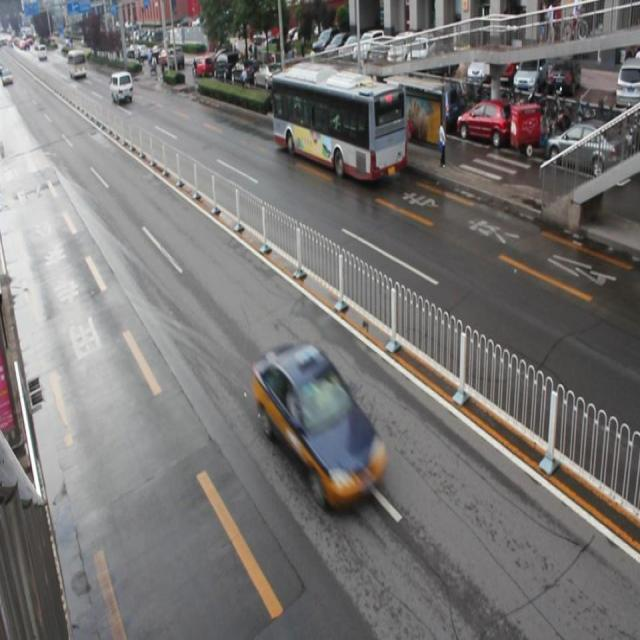car: (253, 343, 386, 506)
van: (272, 73, 406, 181)
